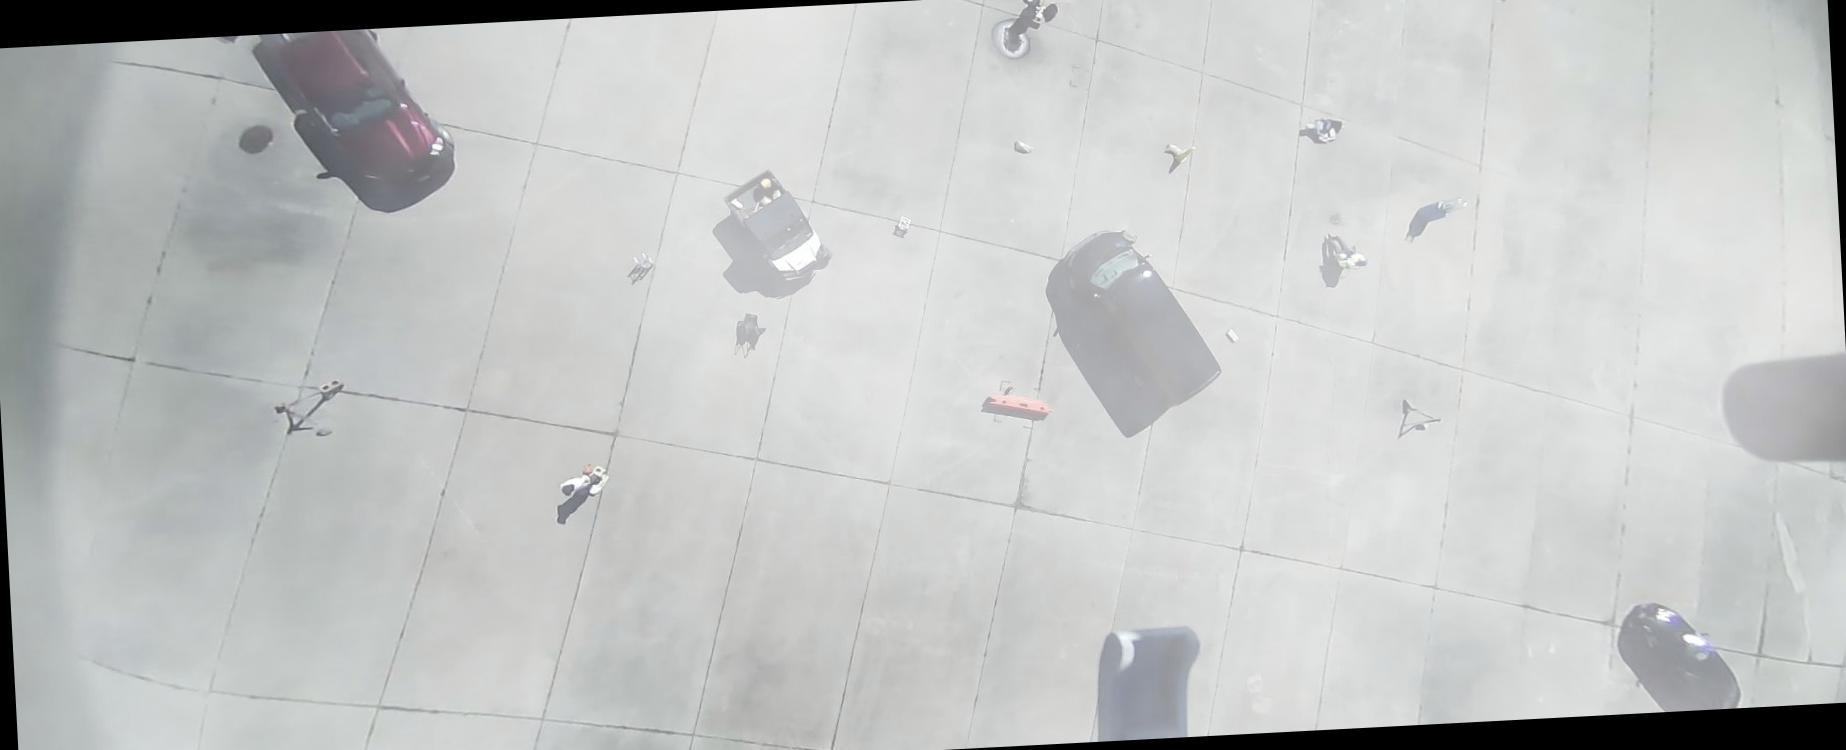vehicle: (259, 25, 457, 191), (1064, 224, 1223, 412), (1622, 598, 1742, 712), (721, 166, 834, 283)
